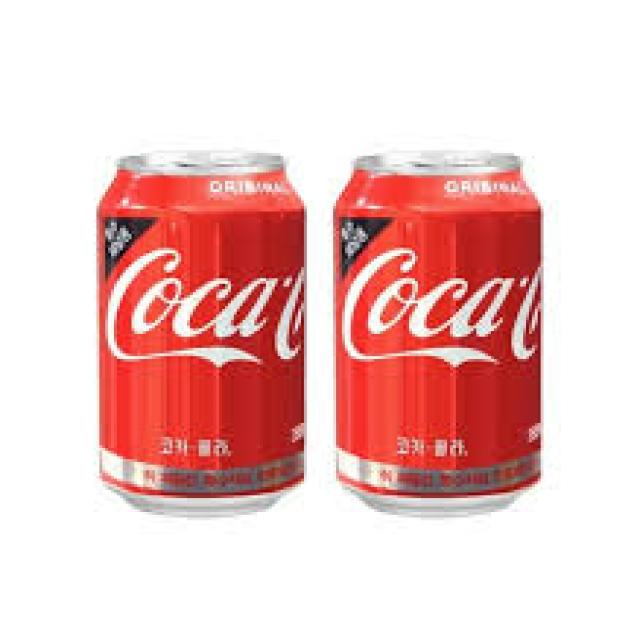Coca-Cola: (79, 146, 324, 517), (323, 142, 562, 521)
